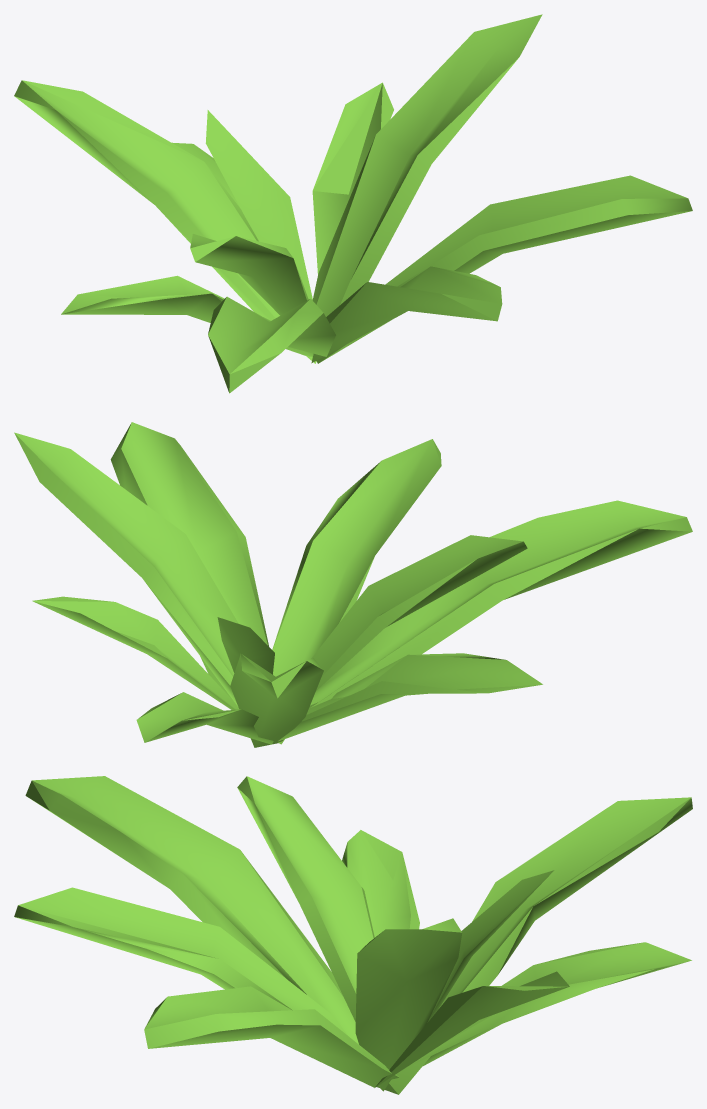
The model's file is Grass 01.FBX.
3 renders of one model, top to bottom at view 1: azimuth 30°, elevation 25°; view 2: azimuth 150°, elevation 25°; view 3: azimuth 270°, elevation 25°, orthographic. The views are drawn at different scales.
Parts seen in each view (by area): view 1: Box010; view 2: Box010; view 3: Box010.
Part boxes in pixels (bbox=[...]): Box010: bbox=[14, 14, 692, 393]; Box010: bbox=[14, 422, 692, 747]; Box010: bbox=[14, 776, 692, 1094].
Size of the model in its own units: 38.86 by 19.12 by 41.28.
